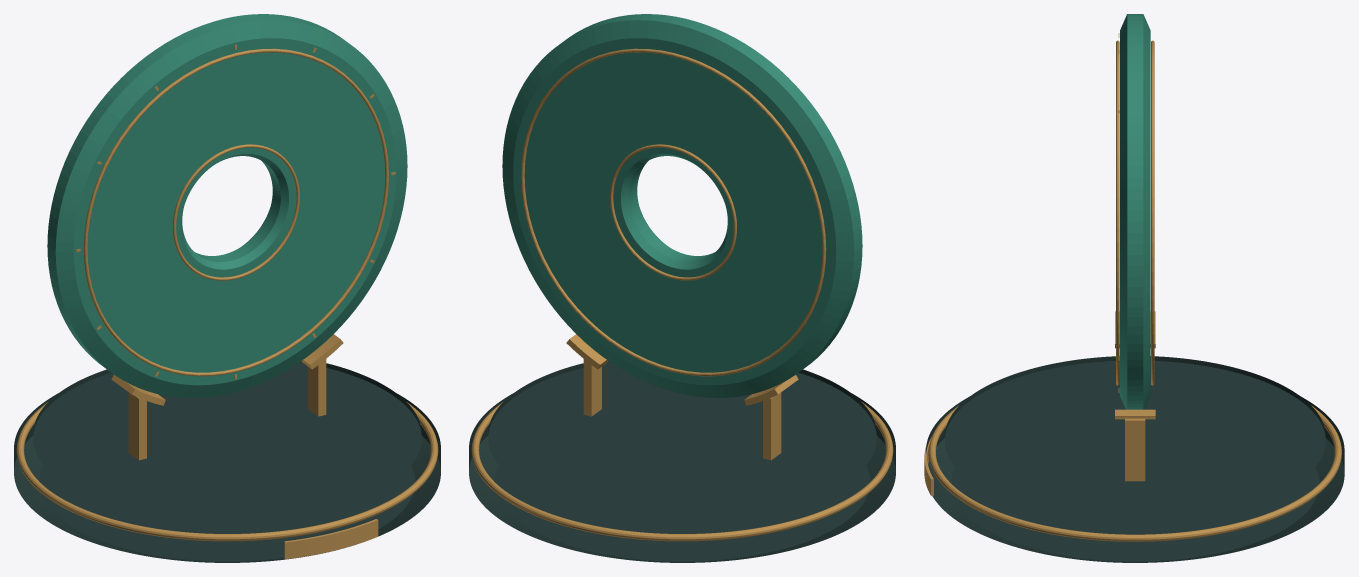
Rendered from china-jade-disc.glb.
The picture shows the model from 3 angles, left to right: view 1: azimuth 30°, elevation 25°; view 2: azimuth 150°, elevation 25°; view 3: azimuth 270°, elevation 25°; orthographic projection. The views are drawn at different scales.
Parts seen in each view (by area): view 1: Jade disc; view 2: Jade disc; view 3: Jade disc.
Part boxes in pixels (box(x1,y1,x2,y2)): Jade disc: box(14, 14, 440, 562); Jade disc: box(469, 14, 895, 562); Jade disc: box(924, 14, 1344, 562).
Bounding box in the file's own units: 2.35 × 2.8 × 2.36.
